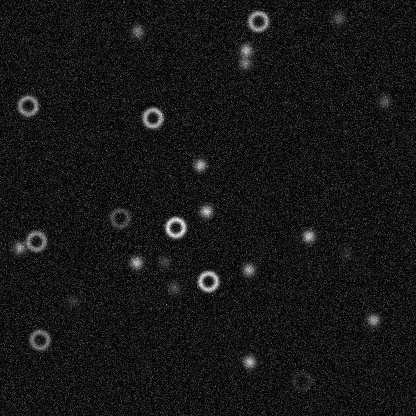Ring: (15, 93, 39, 117), (163, 215, 187, 239), (140, 105, 164, 129), (24, 228, 48, 252), (27, 327, 51, 351), (289, 368, 313, 392), (246, 9, 270, 33), (107, 205, 131, 229), (196, 269, 220, 293)
Spot: (128, 254, 144, 270), (376, 93, 392, 109), (337, 245, 353, 261), (64, 293, 80, 309), (156, 253, 172, 269), (330, 10, 346, 26), (191, 157, 207, 173), (11, 239, 27, 255), (129, 23, 145, 39), (300, 228, 316, 244), (240, 261, 256, 277), (241, 353, 257, 369), (198, 203, 214, 219), (165, 280, 181, 296), (365, 311, 381, 327), (237, 42, 253, 58), (236, 55, 252, 71)
